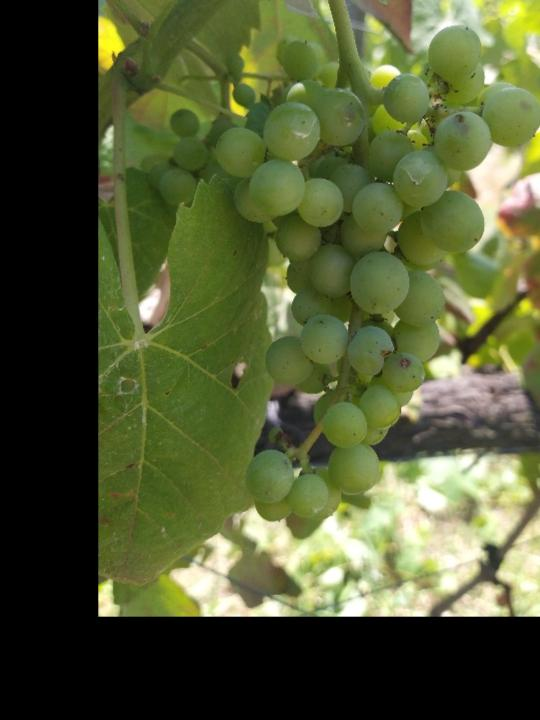grape: (211, 21, 540, 528)
